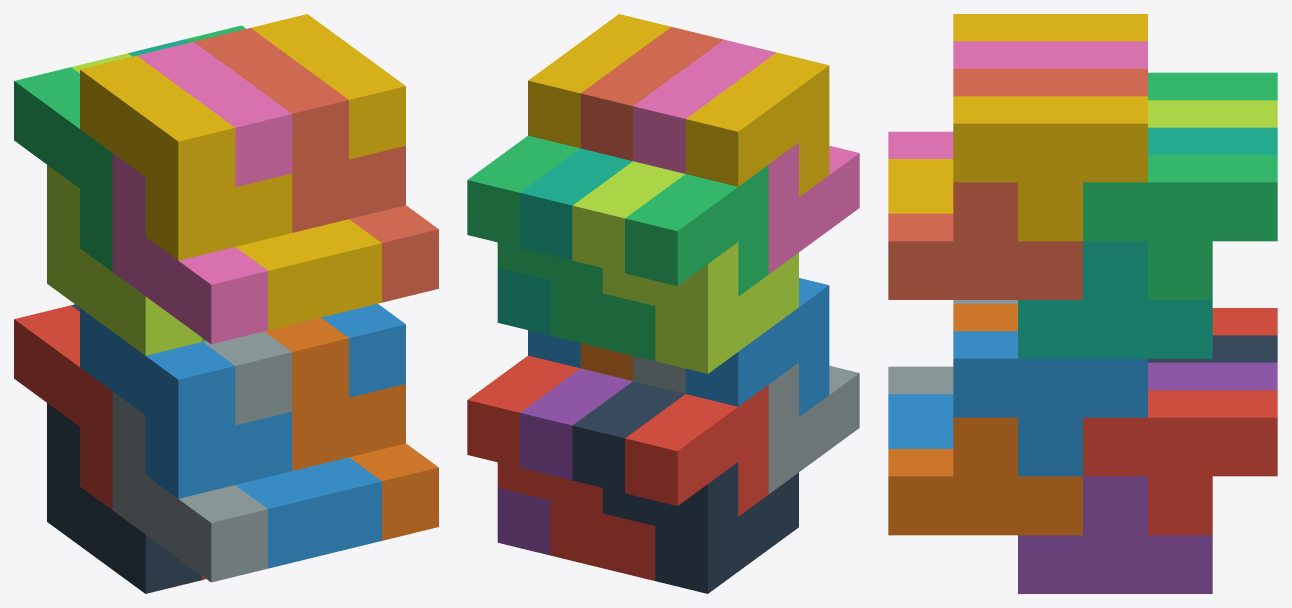
The model's file is tiling.obj.
3 views of the same model, side by side, from view 1: azimuth 30°, elevation 25°; view 2: azimuth 150°, elevation 25°; view 3: azimuth 270°, elevation 25° (orthographic). The views are drawn at different scales.
Visible parts, largest first — view 1: copy_1_domain_4, copy_1_domain_2, copy_2_domain_4, copy_1_domain_8, copy_2_domain_2, copy_1_domain_6, copy_2_domain_8, copy_2_domain_6, copy_2_domain_3, copy_1_domain_3, copy_1_domain_1, copy_2_domain_1; view 2: copy_2_domain_3, copy_2_domain_1, copy_1_domain_1, copy_1_domain_3, copy_2_domain_4, copy_1_domain_4, copy_2_domain_7, copy_2_domain_5, copy_1_domain_7, copy_1_domain_5, copy_1_domain_2, copy_2_domain_2 (+4 smaller); view 3: copy_1_domain_8, copy_2_domain_8, copy_2_domain_6, copy_1_domain_5, copy_1_domain_6, copy_2_domain_5, copy_1_domain_7, copy_2_domain_7, copy_1_domain_4, copy_2_domain_4, copy_1_domain_3, copy_2_domain_3 (+4 smaller).
Boxes of the visible parts, x1,y1,x2,y2 form: copy_1_domain_4: [80, 55, 324, 330]; copy_1_domain_2: [80, 308, 324, 568]; copy_2_domain_4: [112, 42, 292, 344]; copy_1_domain_8: [194, 28, 438, 302]; copy_2_domain_2: [112, 331, 292, 582]; copy_1_domain_6: [264, 317, 438, 540]; copy_2_domain_8: [251, 14, 405, 316]; copy_2_domain_6: [292, 303, 405, 554]; copy_2_domain_3: [47, 53, 202, 355]; copy_1_domain_3: [14, 67, 205, 341]; copy_1_domain_1: [14, 305, 205, 579]; copy_2_domain_1: [47, 304, 202, 593]; copy_2_domain_3: [572, 161, 798, 373]; copy_2_domain_1: [572, 381, 798, 593]; copy_1_domain_1: [602, 385, 768, 580]; copy_1_domain_3: [602, 165, 768, 360]; copy_2_domain_4: [633, 39, 859, 273]; copy_1_domain_4: [685, 52, 829, 196]; copy_2_domain_7: [467, 135, 602, 348]; copy_2_domain_5: [467, 355, 602, 568]; copy_1_domain_7: [497, 148, 632, 335]; copy_1_domain_5: [497, 368, 632, 555]; copy_1_domain_2: [685, 278, 829, 416]; copy_2_domain_2: [633, 356, 859, 493]; copy_1_domain_8: [888, 68, 1147, 299]; copy_2_domain_8: [888, 96, 1147, 241]; copy_2_domain_6: [888, 331, 1147, 476]; copy_1_domain_5: [1018, 362, 1277, 593]; copy_1_domain_6: [888, 304, 1082, 535]; copy_2_domain_5: [1083, 390, 1277, 535]; copy_1_domain_7: [1018, 127, 1277, 358]; copy_2_domain_7: [1083, 155, 1277, 299]; copy_1_domain_4: [888, 14, 1147, 186]; copy_2_domain_4: [888, 41, 1147, 158]; copy_1_domain_3: [1148, 72, 1277, 100]; copy_2_domain_3: [1148, 100, 1277, 127].
Bounding box in the file's own units: 4 × 8 × 6.
